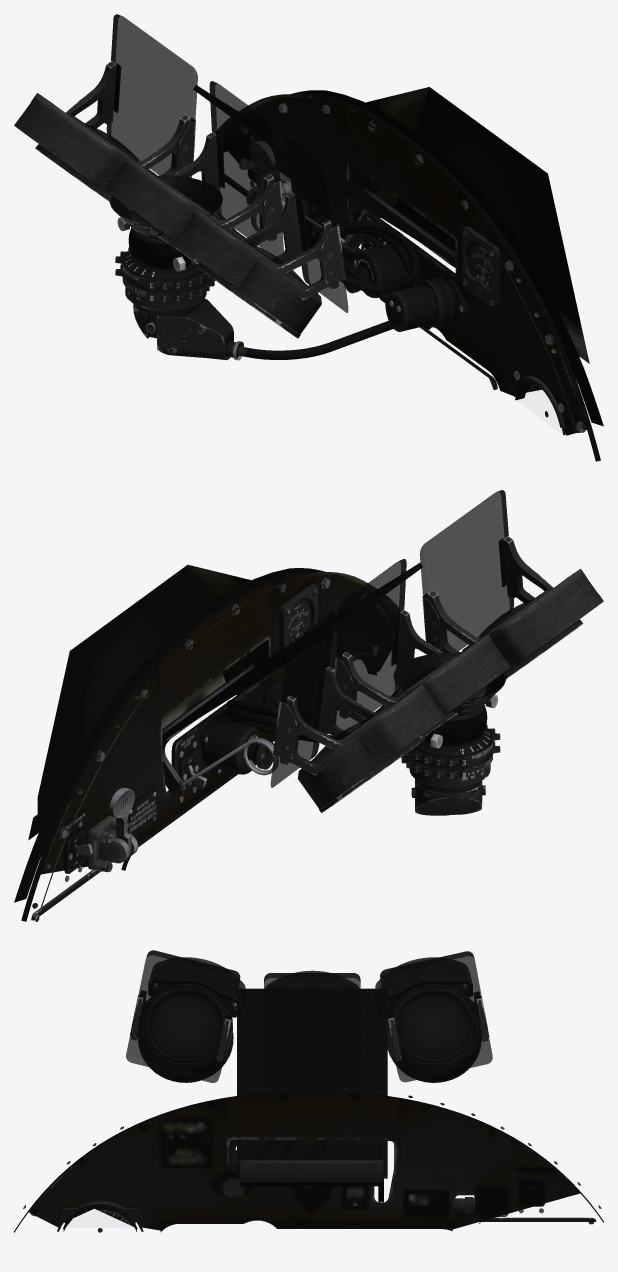
Rendered from shuttle-low-british-cockpit.glb.
3 renders of one model, top to bottom at view 1: azimuth 30°, elevation 25°; view 2: azimuth 150°, elevation 25°; view 3: azimuth 270°, elevation 25°, orthographic. The views are drawn at different scales.
Parts seen in each view (by area): view 1: Object_50, Object_50.002, Object_50.003, Object_50.001; view 2: Object_50, Object_50.003, Object_50.002, Object_50.001; view 3: Object_50, Object_50.003, Object_50.002, Object_50.001.
Part boxes in pixels (x1,y1,x2,y2): Object_50: (109,85,603,461); Object_50.002: (14,14,197,201); Object_50.003: (173,137,348,338); Object_50.001: (104,81,283,264); Object_50: (14,563,506,921); Object_50.003: (419,490,603,678); Object_50.002: (270,612,445,812); Object_50.001: (332,559,510,738); Object_50: (14,988,603,1232); Object_50.003: (126,950,245,1082); Object_50.002: (375,951,492,1082); Object_50.001: (264,970,360,988).
Bounding box in the file's own units: 1.08 × 0.7508 × 1.89.
Materials: 16 (8 with a texture image).
